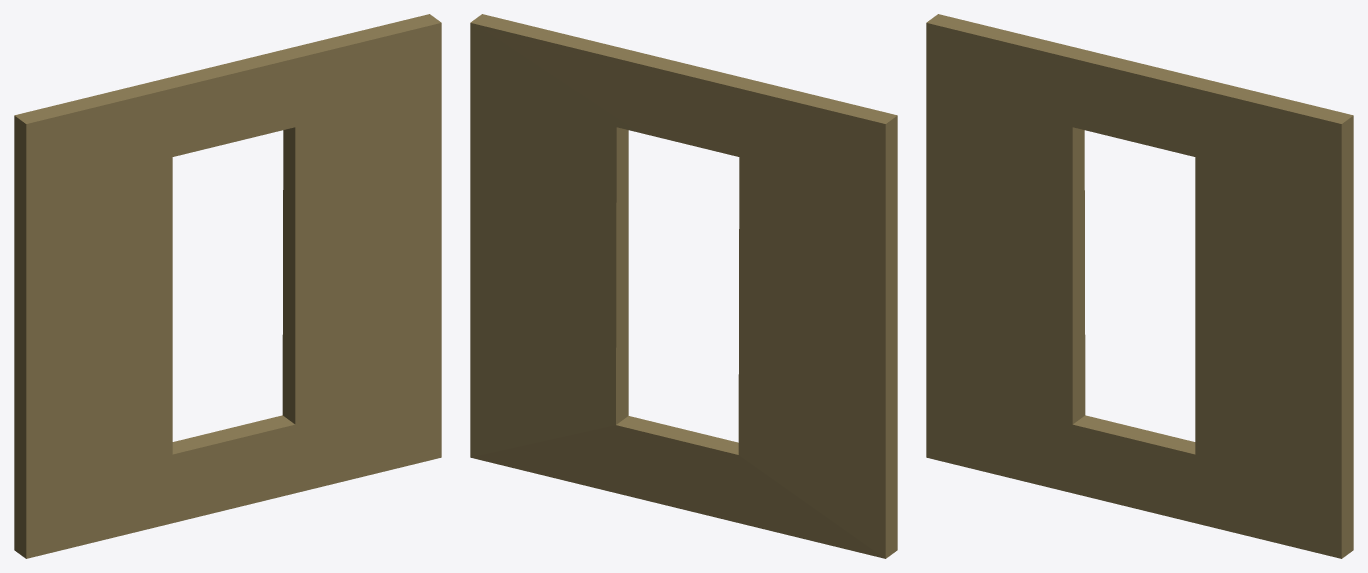
Rendered from MOD_Vertical_Window.fbx.
3 renders of one model, left to right at view 1: azimuth 30°, elevation 25°; view 2: azimuth 150°, elevation 25°; view 3: azimuth 330°, elevation 25°, orthographic.
Visible parts, largest first — view 1: Wall Window Tall. 1; view 2: Wall Window Tall. 1; view 3: Wall Window Tall. 1.
Part boxes in pixels (x1,y1,x2,y2): Wall Window Tall. 1: [14, 14, 441, 558]; Wall Window Tall. 1: [470, 14, 897, 558]; Wall Window Tall. 1: [926, 14, 1353, 558].
Size of the model in its own units: 200 by 200 by 10.57.
